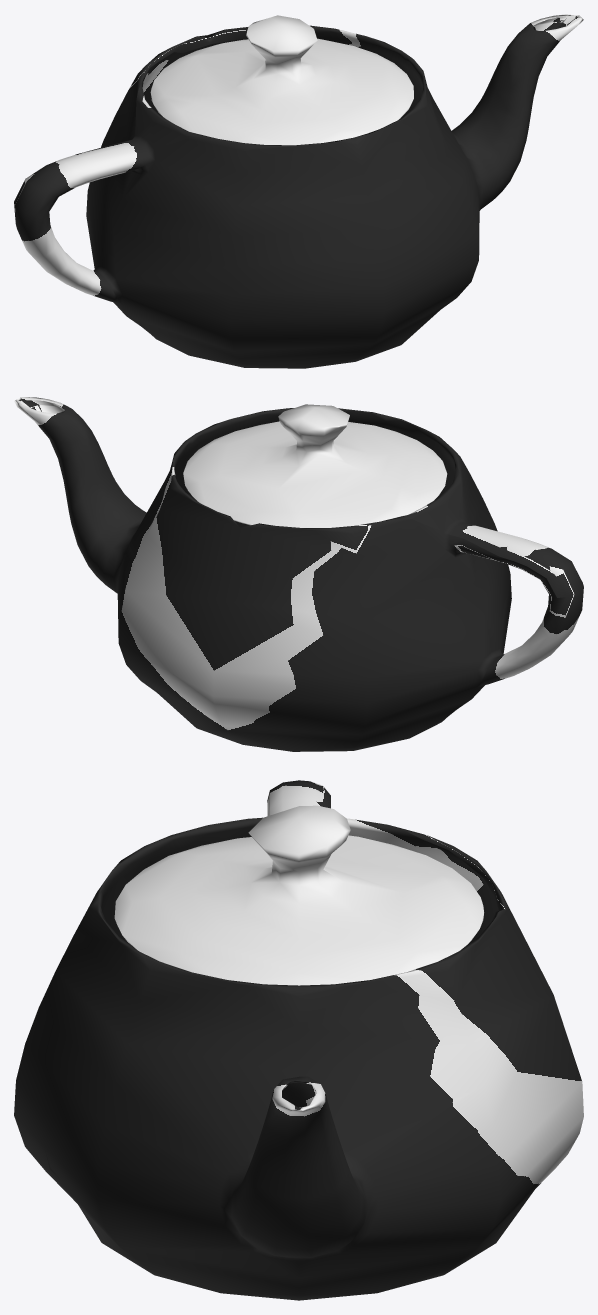
File: teapot_occ_cgal_conformal_result.glb
The picture shows the model from 3 angles, top to bottom: view 1: azimuth 30°, elevation 25°; view 2: azimuth 150°, elevation 25°; view 3: azimuth 270°, elevation 25°; orthographic projection. The views are drawn at different scales.
Parts seen in each view (by area): view 1: parameterized; view 2: parameterized; view 3: parameterized.
Part boxes in pixels (<box>): parameterized: <box>14,14,583,368</box>; parameterized: <box>14,397,583,751</box>; parameterized: <box>14,780,583,1300</box>.
Bounding box in the file's own units: 162 × 80.01 × 101.
1 material, 1 textured.
